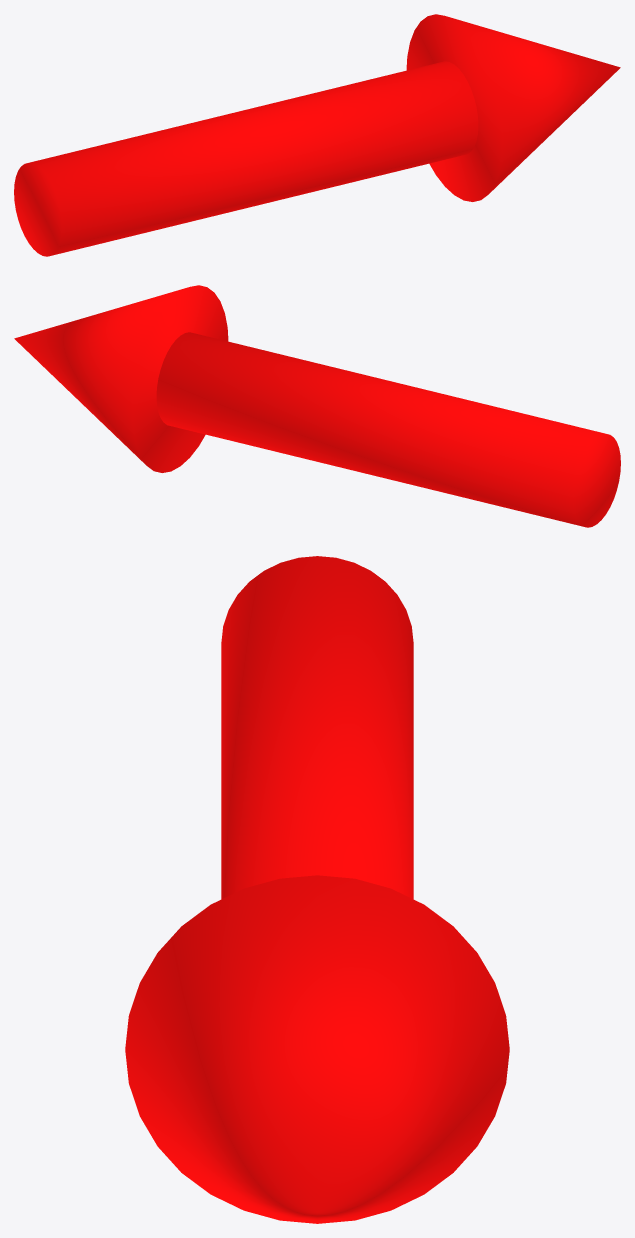
Rendered from red_arrow.glb.
3 views of the same model, one above another, from view 1: azimuth 30°, elevation 25°; view 2: azimuth 150°, elevation 25°; view 3: azimuth 270°, elevation 25° (orthographic). The views are drawn at different scales.
Parts seen in each view (by area): view 1: X Arrow; view 2: X Arrow; view 3: X Arrow.
Part boxes in pixels (x1,y1,x2,y2): X Arrow: [14, 14, 620, 256]; X Arrow: [14, 285, 620, 527]; X Arrow: [125, 556, 509, 1223].
Size of the model in its own units: 1.4 by 0.4 by 0.4.
